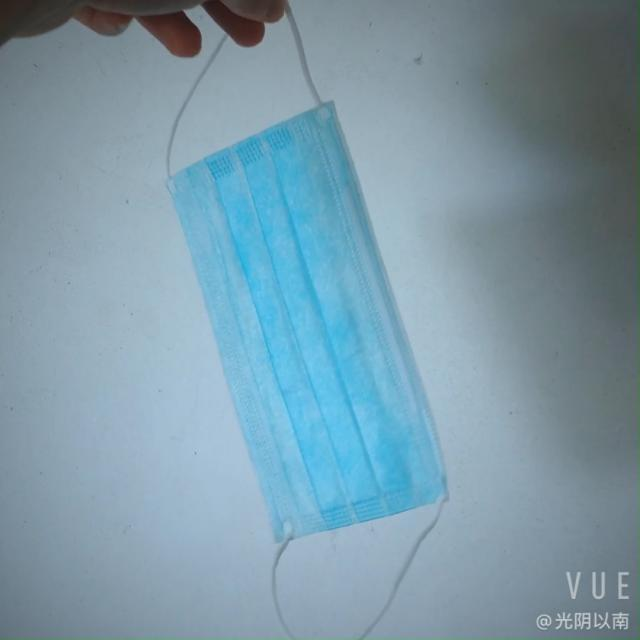face mask: (156, 114, 438, 512)
